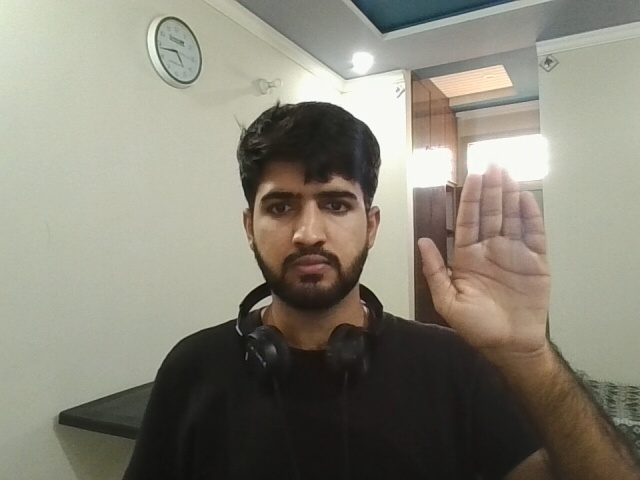Hello: (415, 159, 569, 365)
